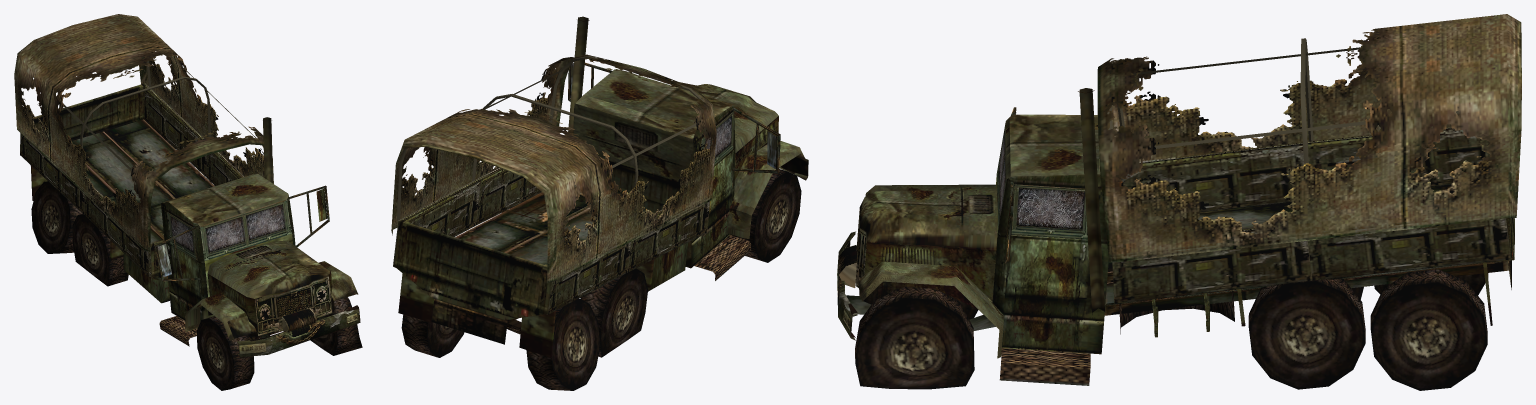
File: F5TonCX.glb
The picture shows the model from 3 angles, left to right: view 1: azimuth 30°, elevation 25°; view 2: azimuth 150°, elevation 25°; view 3: azimuth 270°, elevation 25°; orthographic projection. The views are drawn at different scales.
Visible parts, largest first — view 1: _F5TonCX; view 2: _F5TonCX; view 3: _F5TonCX.
Part boxes in pixels (box(x1,y1,x2,y2)): _F5TonCX: box(14, 14, 362, 390); _F5TonCX: box(391, 16, 808, 390); _F5TonCX: box(837, 14, 1521, 390).
Bounding box in the file's own units: 4.31 × 5.13 × 9.61.
3 materials, 3 textured.
